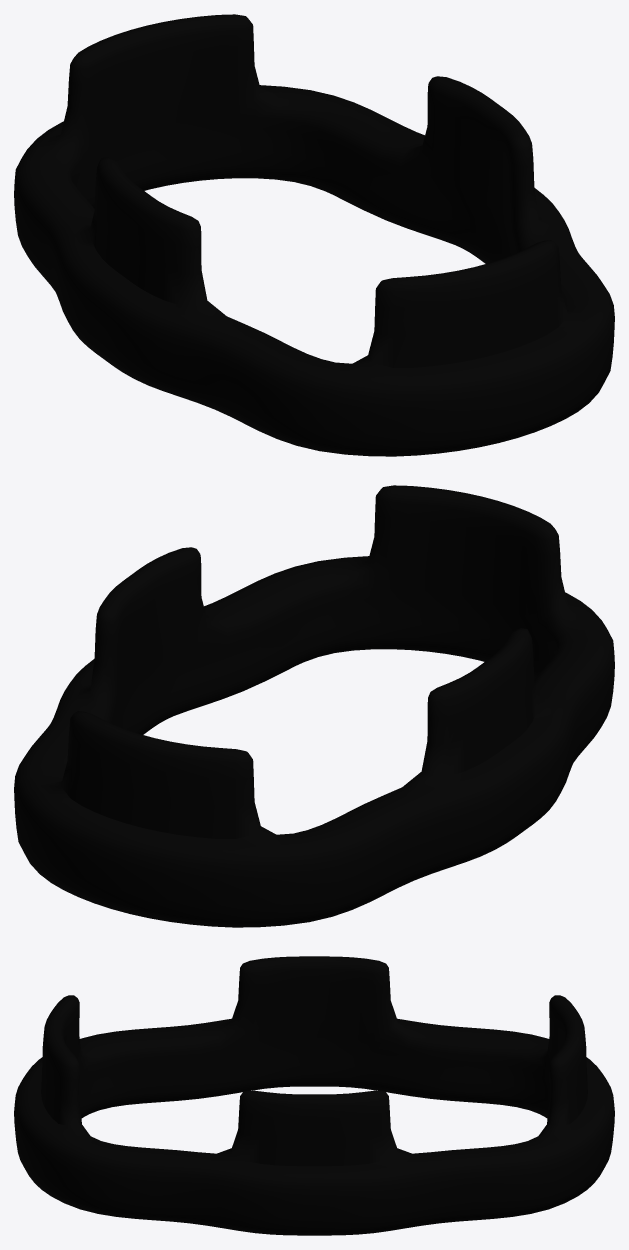
The model's file is mesh_fx_BumperImmune.fbx.
3 renders of one model, top to bottom at view 1: azimuth 30°, elevation 25°; view 2: azimuth 150°, elevation 25°; view 3: azimuth 270°, elevation 25°, orthographic. The views are drawn at different scales.
Visible parts, largest first — view 1: mesh_fx_BumperImmune.fbx; view 2: mesh_fx_BumperImmune.fbx; view 3: mesh_fx_BumperImmune.fbx.
Part boxes in pixels (bbox=[...]): mesh_fx_BumperImmune.fbx: bbox=[14, 14, 614, 456]; mesh_fx_BumperImmune.fbx: bbox=[14, 485, 614, 927]; mesh_fx_BumperImmune.fbx: bbox=[14, 956, 614, 1235].
Bounding box in the file's own units: 2.8 × 1.01 × 4.2.
